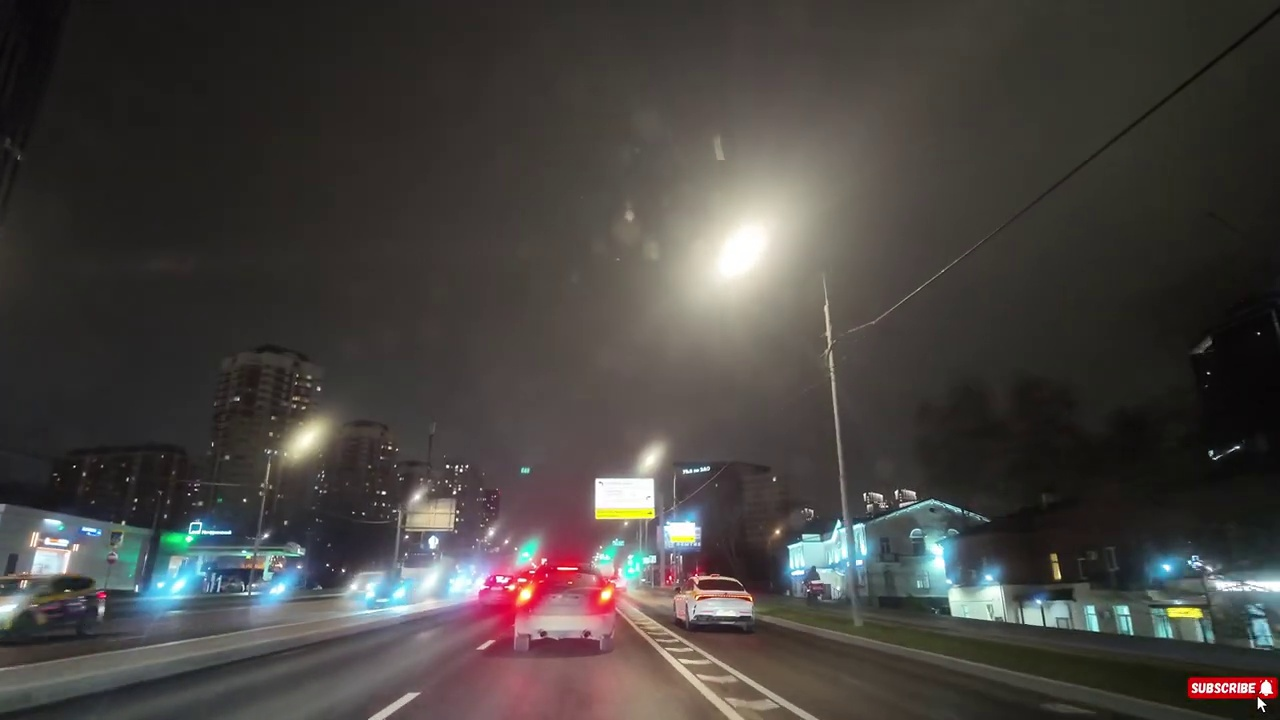acesa: (710, 214, 782, 289), (282, 415, 331, 466), (637, 438, 664, 471)
